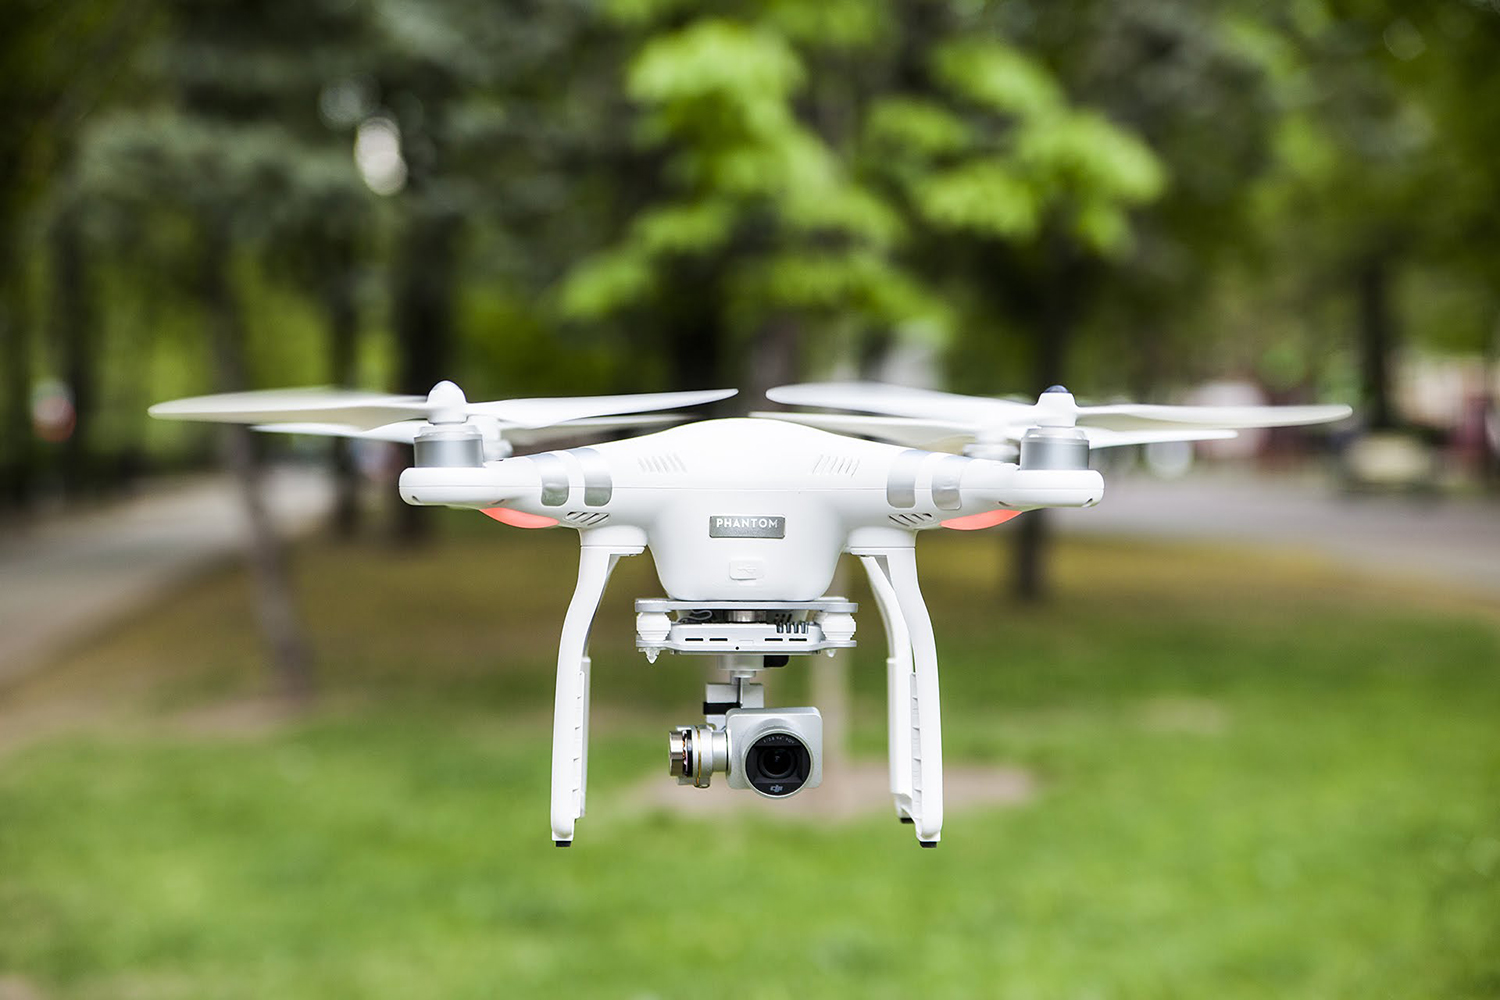drone: (145, 371, 1356, 856)
